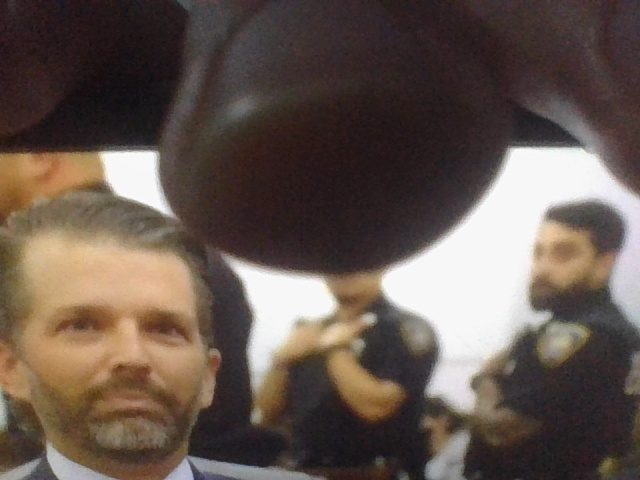fake: (0, 173, 222, 480)
